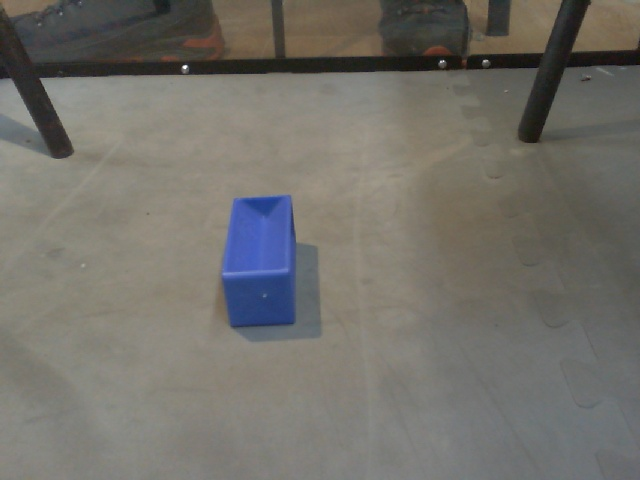BlueSample: (218, 190, 305, 336)
